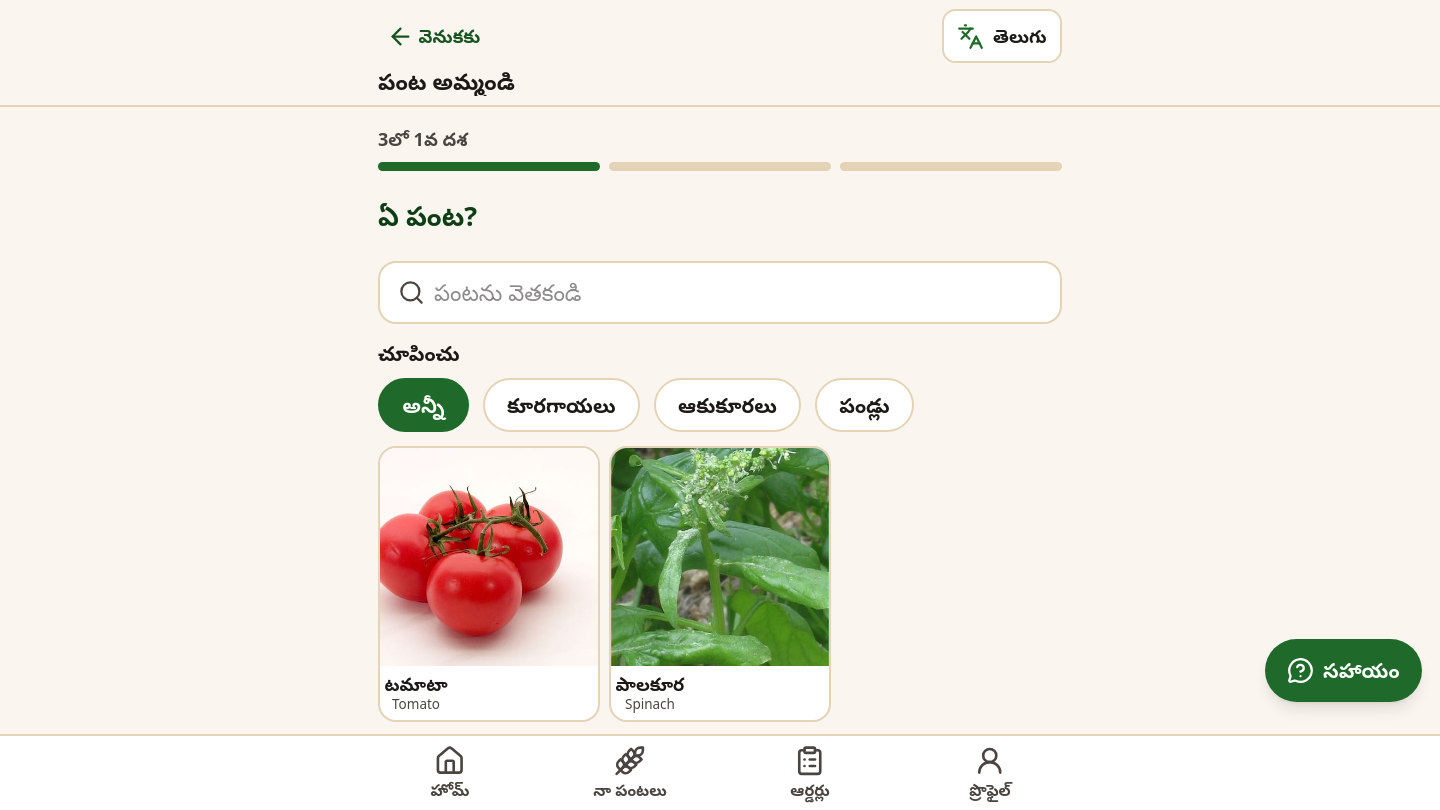
Scenario: Sell flow › finds a crop by its Telugu name, with photos instead of emoji
Step 1. Type "పాల" into the search field → (738, 293), box [434,264,1042,322]
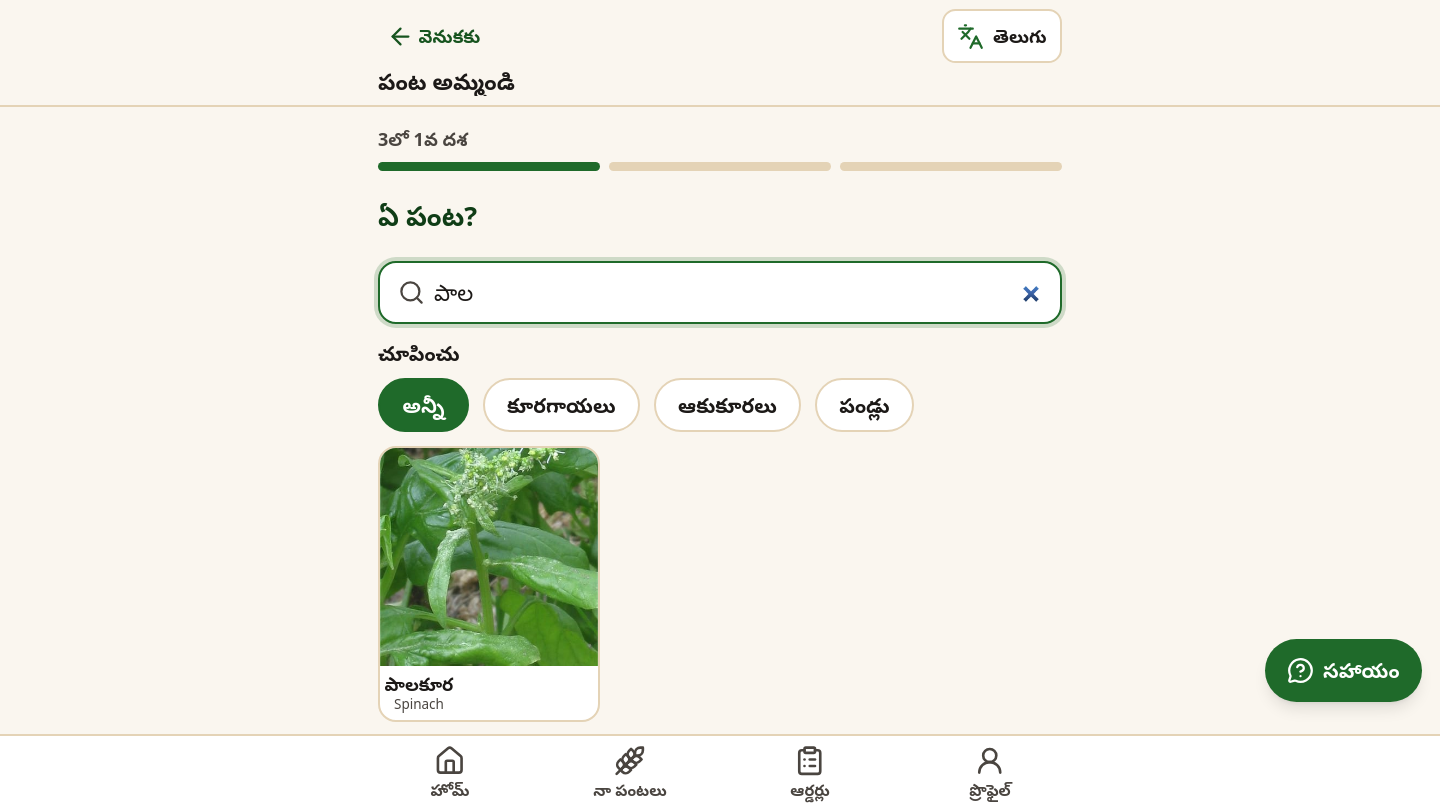
Expected: the button "పాలకూర Spinach" is shown, [378,446,600,722]
Result: the button "టమాటా" is gone
